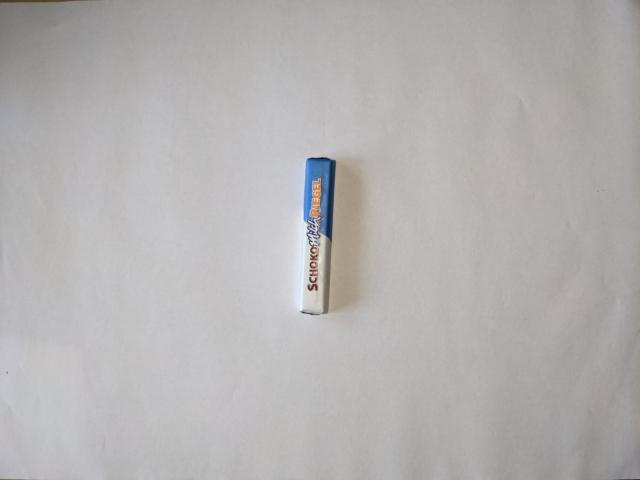Schokoriegel: (294, 156, 339, 318)
